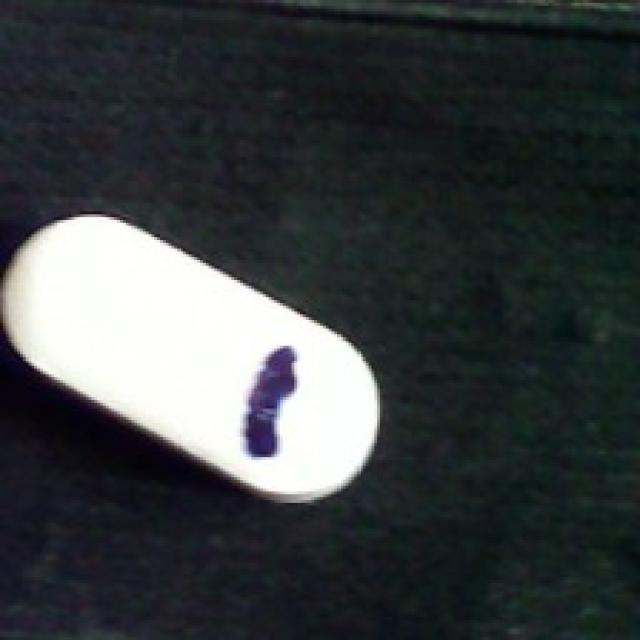defected: (0, 210, 386, 506)
